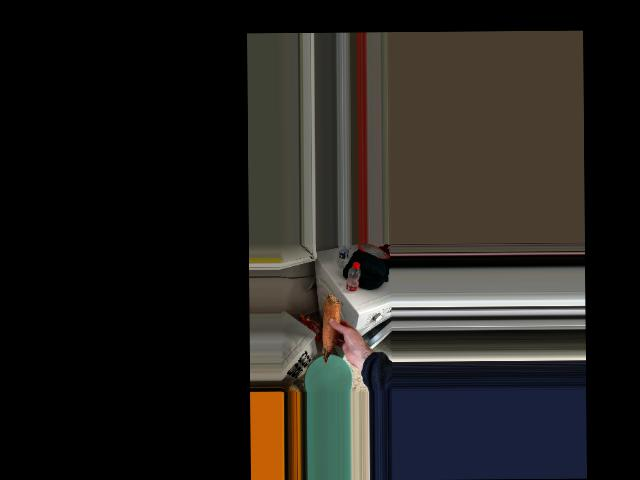sweet_potato: (317, 291, 344, 361)
